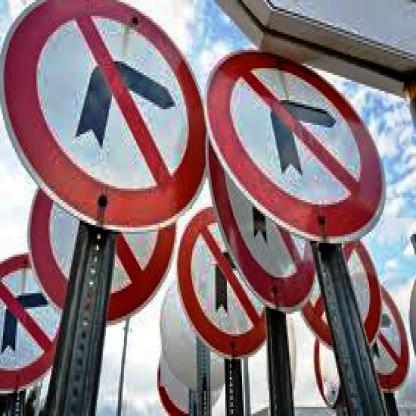No right turn: (3, 0, 196, 214), (209, 38, 383, 240)
